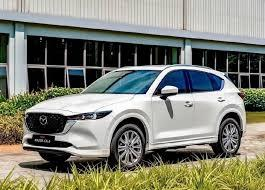mazda: (35, 112, 55, 129)
